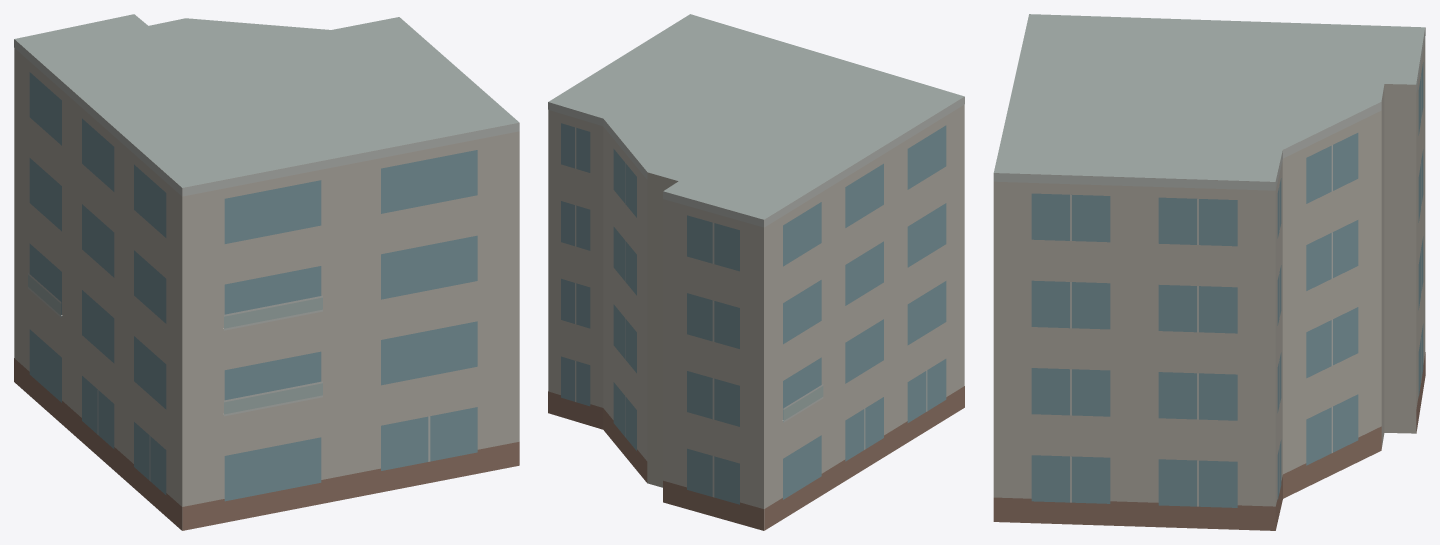
Rendered from survey-upis-32986012.glb.
3 views of the same model, side by side, from view 1: azimuth 30°, elevation 25°; view 2: azimuth 150°, elevation 25°; view 3: azimuth 270°, elevation 25° (orthographic). The views are drawn at different scales.
Visible parts, largest first — view 1: survey-upis-32986012.tmp; view 2: survey-upis-32986012.tmp; view 3: survey-upis-32986012.tmp.
Part boxes in pixels (x1,y1,x2,y2): survey-upis-32986012.tmp: (14,14,519,530); survey-upis-32986012.tmp: (548,14,964,530); survey-upis-32986012.tmp: (993,14,1425,530).
Size of the model in its own units: 10.02 by 9.7 by 10.89.
